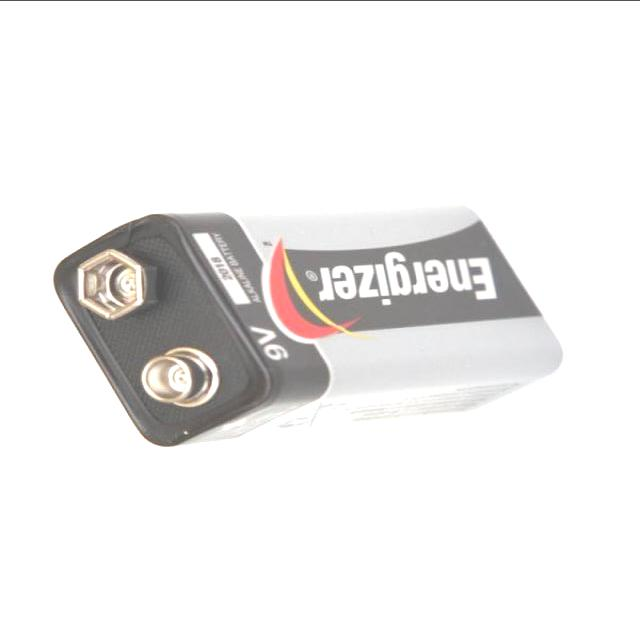9V: (36, 180, 586, 460)
